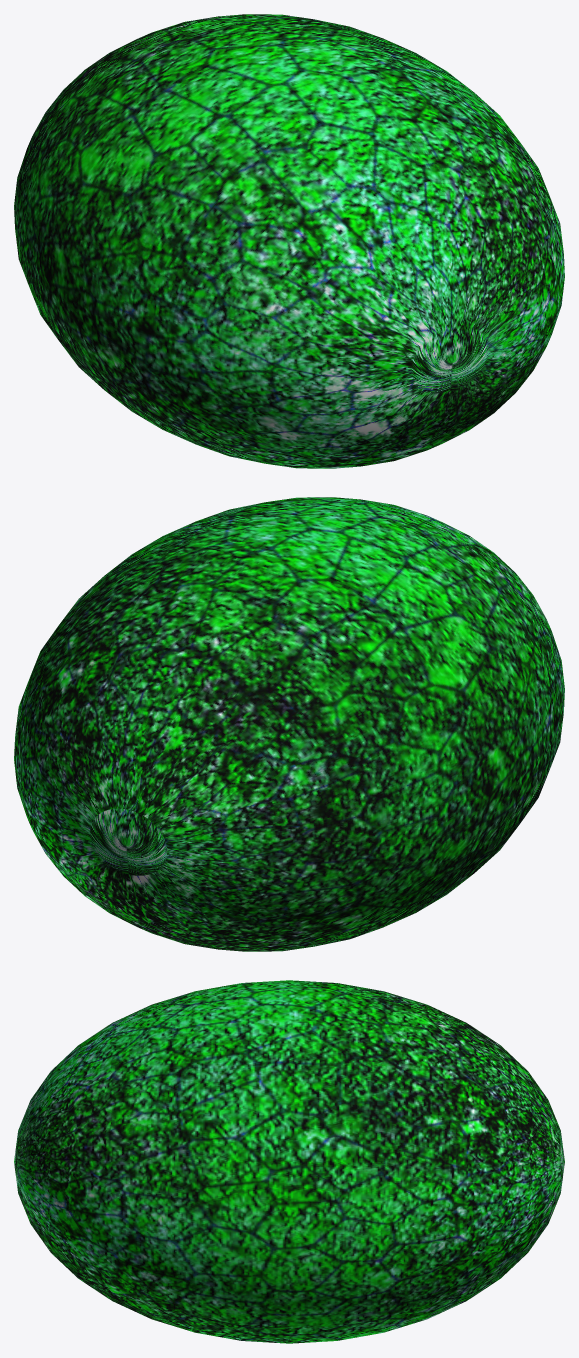
The model's file is ZolonShieldB2.fbx.
3 views of the same model, one above another, from view 1: azimuth 30°, elevation 25°; view 2: azimuth 150°, elevation 25°; view 3: azimuth 270°, elevation 25° (orthographic). The views are drawn at different scales.
Visible parts, largest first — view 1: ZolonShieldB2; view 2: ZolonShieldB2; view 3: ZolonShieldB2.
Part boxes in pixels (x1,y1,x2,y2): ZolonShieldB2: [14, 14, 564, 468]; ZolonShieldB2: [14, 497, 564, 951]; ZolonShieldB2: [14, 980, 564, 1343].
Size of the model in its own units: 1627 by 1302 by 2066.
